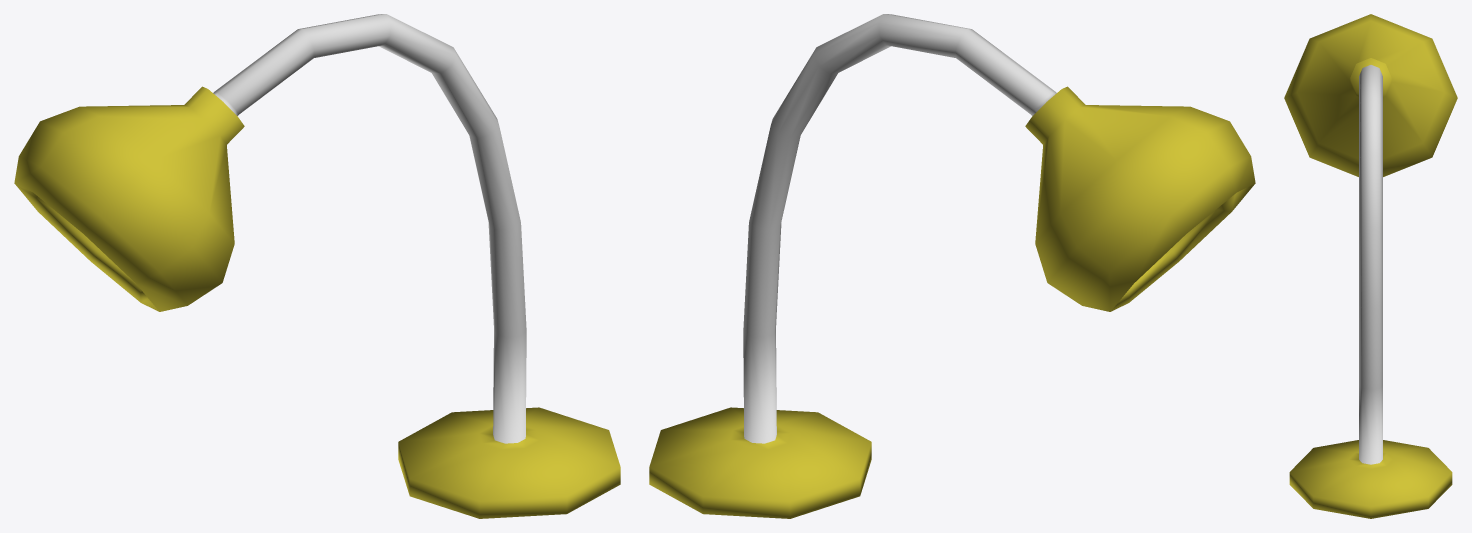
The model's file is lampara_escritorio.fbx.
3 renders of one model, left to right at view 1: azimuth 30°, elevation 25°; view 2: azimuth 150°, elevation 25°; view 3: azimuth 270°, elevation 25°, orthographic. The views are drawn at different scales.
Visible parts, largest first — view 1: EscritorioLampara; view 2: EscritorioLampara; view 3: EscritorioLampara.
Part boxes in pixels (x1,y1,x2,y2): EscritorioLampara: (14, 14, 620, 518); EscritorioLampara: (649, 14, 1255, 518); EscritorioLampara: (1284, 14, 1457, 518).
Size of the model in its own units: 49.11 by 40.17 by 18.14.
